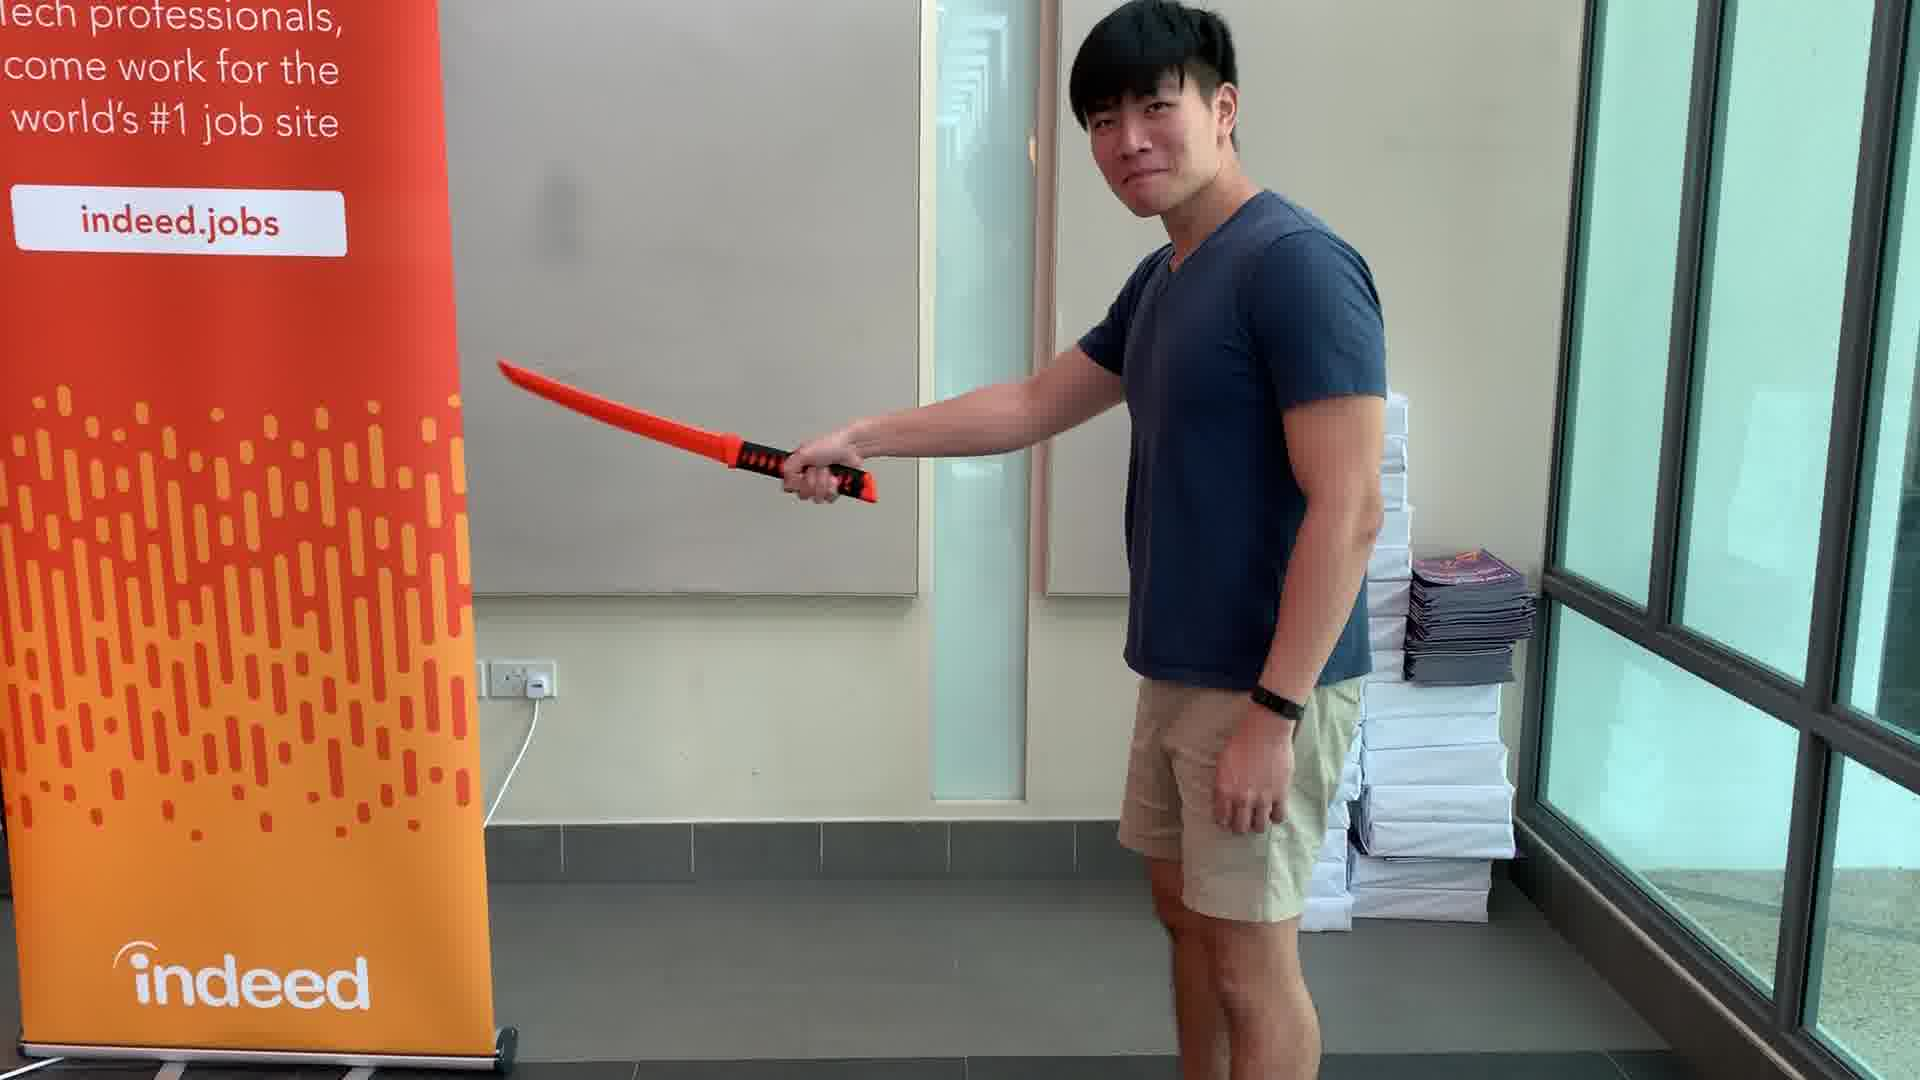knife: (488, 351, 887, 513)
